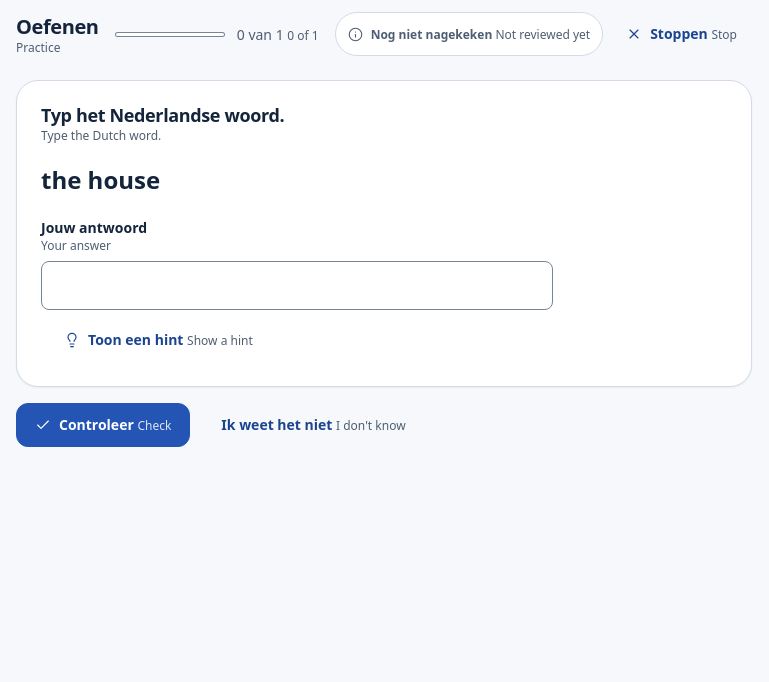
Test: ExerciseSession with a typed answer › sends the hint with the answer, and the learner may say the answer is right too
This screenshot has width=769, height=682.
Step 1. Click the button "Toon een hint Show a hint" → click(158, 340), box [49, 318, 268, 362]
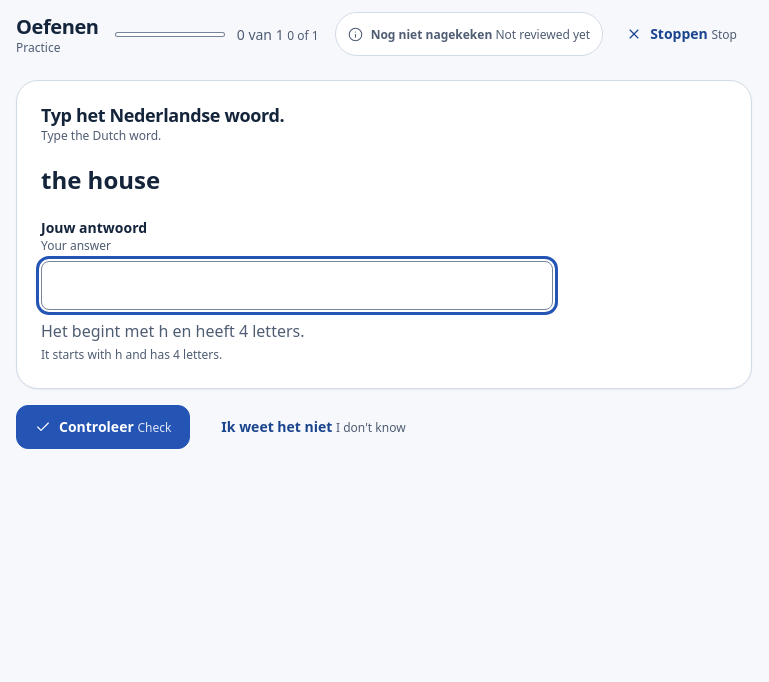
Step 2. Type "de woning" into the field labelled "Jouw antwoord Your answer" → (297, 285), box [41, 261, 553, 310]
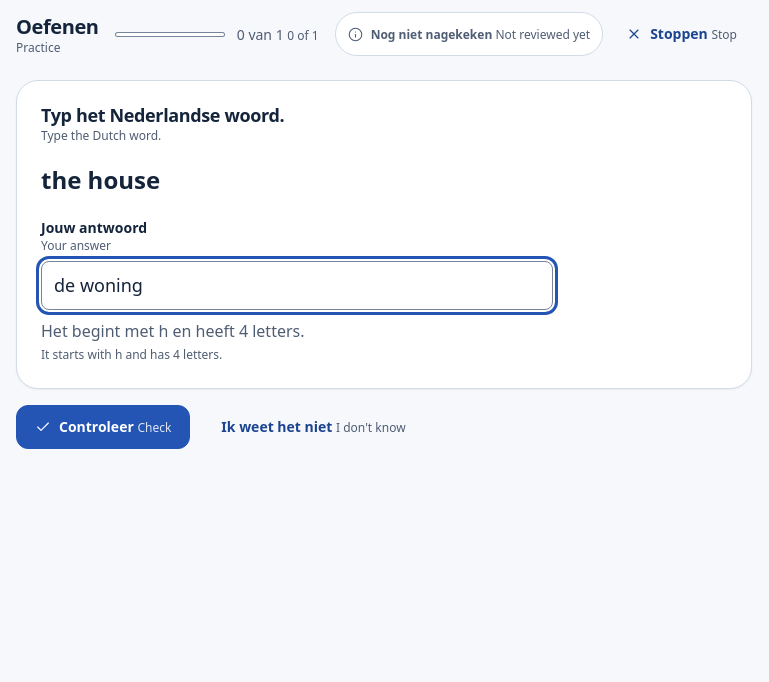
Step 3. Press Enter in the field labelled "Jouw antwoord Your answer", box [41, 261, 553, 310]
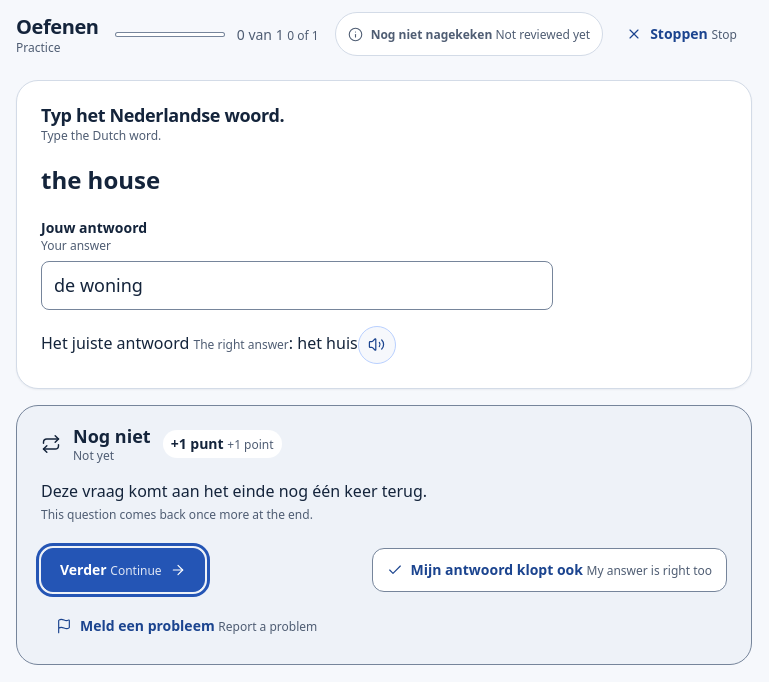
Result: the element "Nog niet" is shown at [16, 405, 752, 665]
Step 4. Click the button "Mijn antwoord klopt ook My answer is right too" → click(549, 570), box [372, 548, 727, 592]
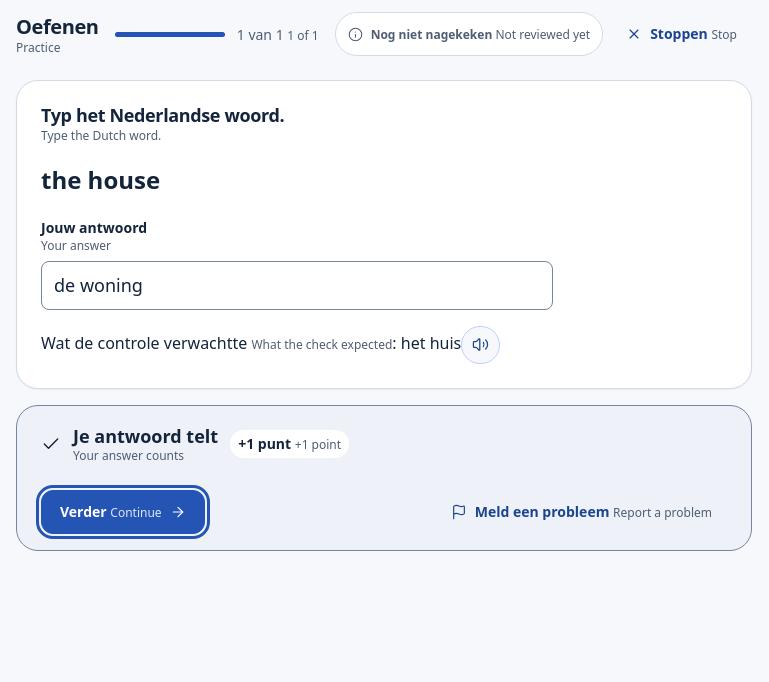
Result: the element "Je antwoord telt" shows "+1 punt" at [238, 434, 291, 453]
Result: the button "Mijn antwoord klopt ook" is gone
